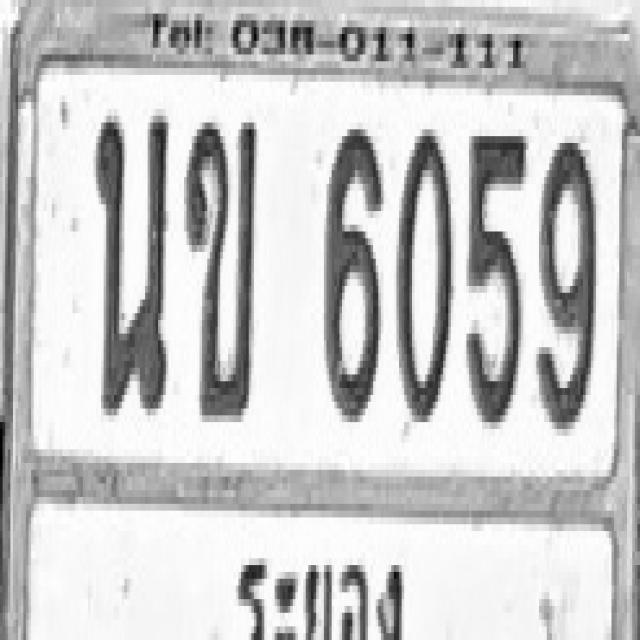0: (395, 123, 452, 422)
11KhorKhai: (184, 116, 256, 422)
34NorNu: (94, 102, 168, 415)
5: (465, 126, 527, 425)
6: (323, 123, 382, 422)
9: (536, 136, 596, 429)
Rayong: (233, 531, 408, 640)
